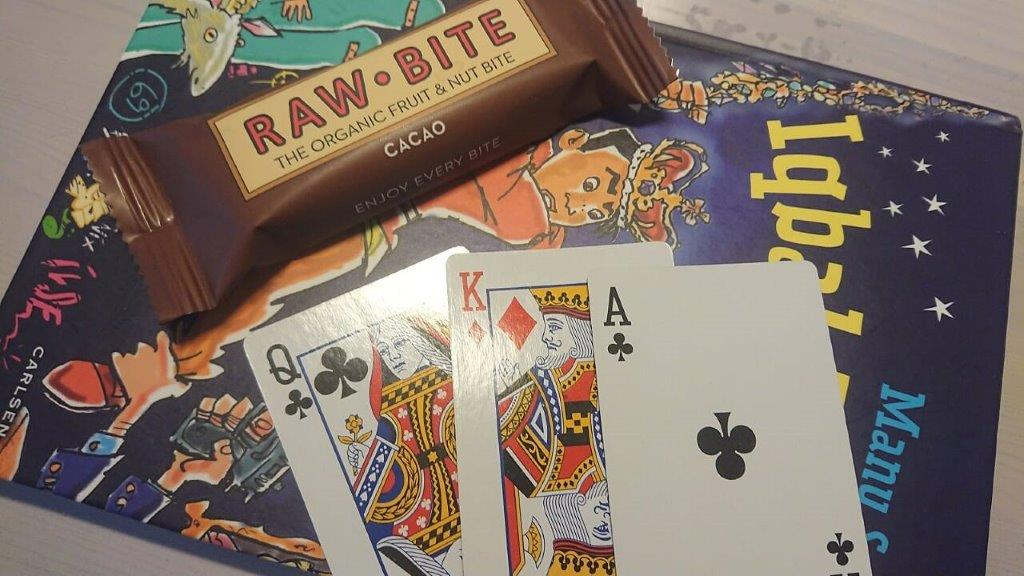AC: (599, 281, 635, 366)
KD: (453, 266, 493, 353)
QC: (259, 340, 317, 423)
